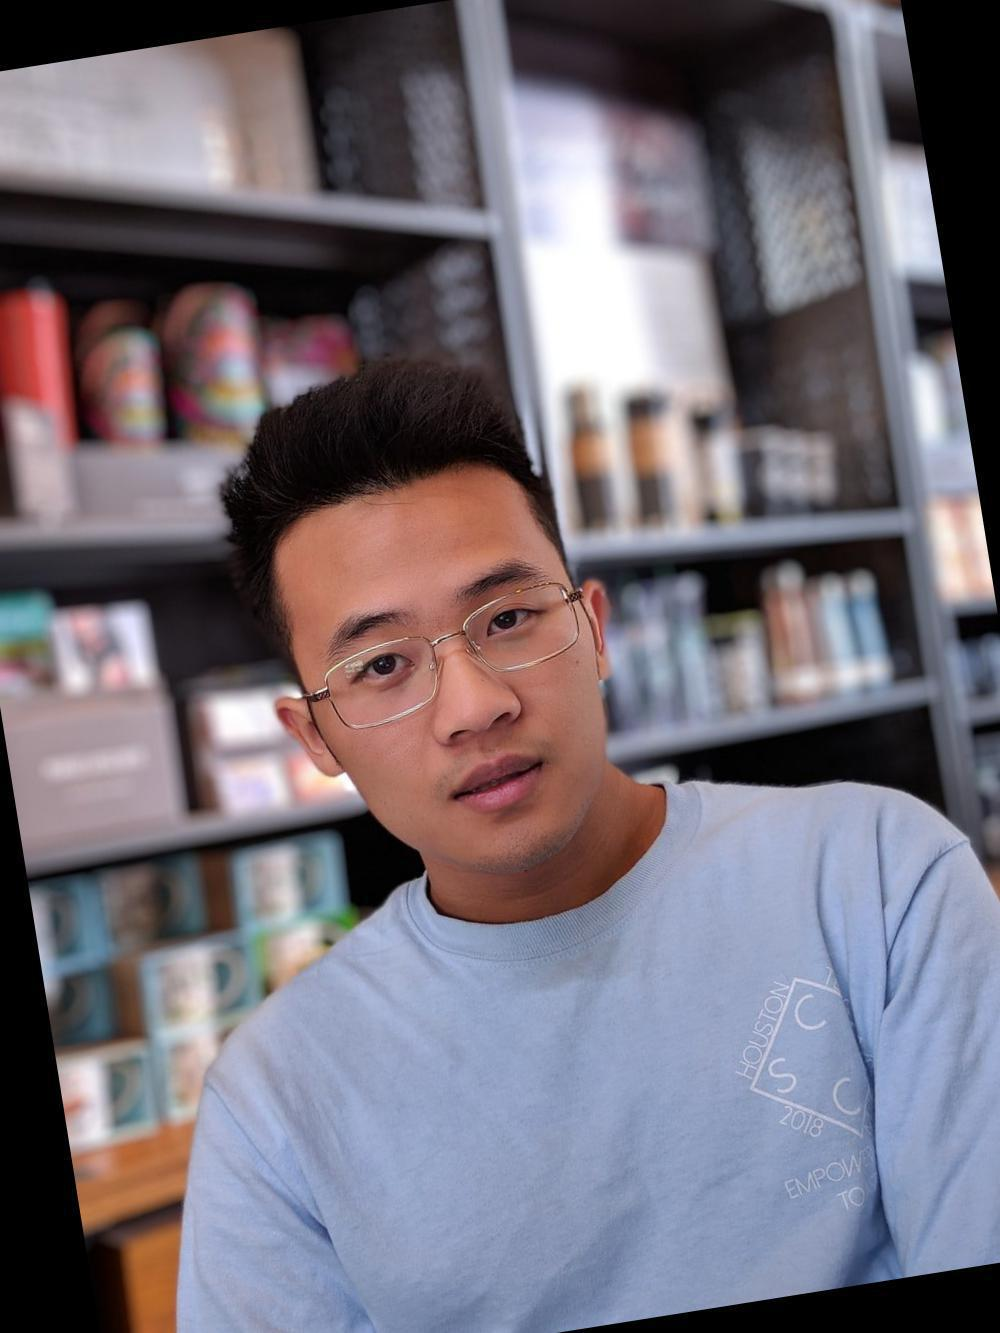Sober: (291, 497, 605, 851)
